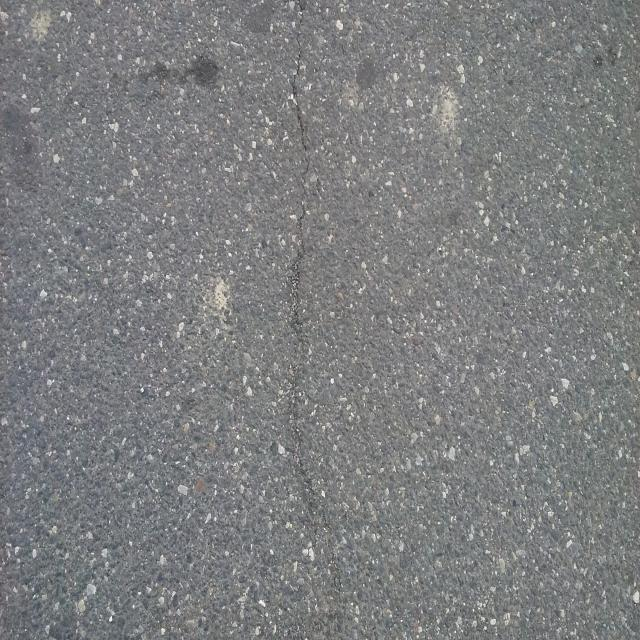Longitudial: (268, 0, 362, 640)
